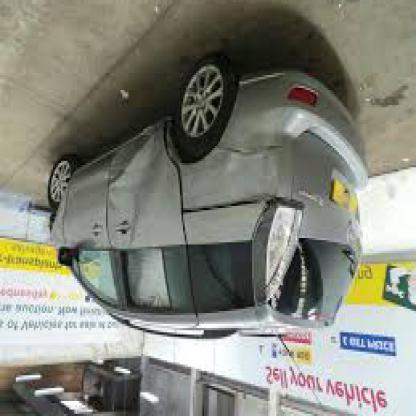dent: (112, 147, 152, 185), (126, 208, 136, 247)
